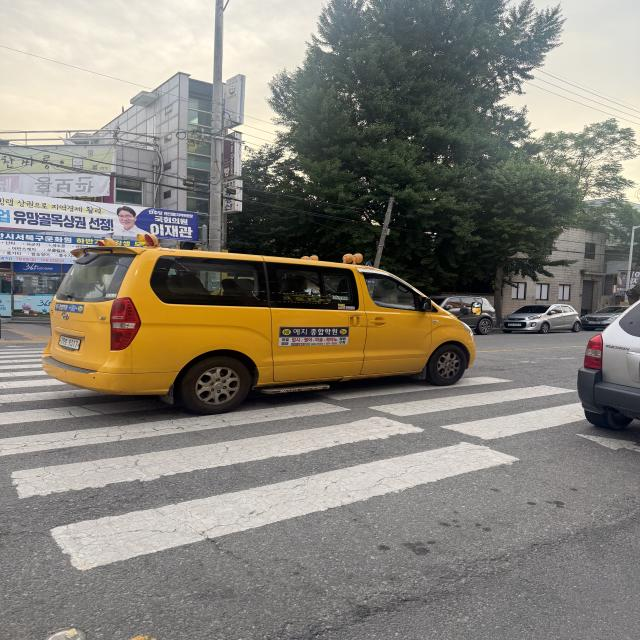car: (41, 237, 480, 415), (572, 296, 640, 439), (422, 292, 502, 340), (502, 303, 582, 334), (582, 305, 633, 331)
